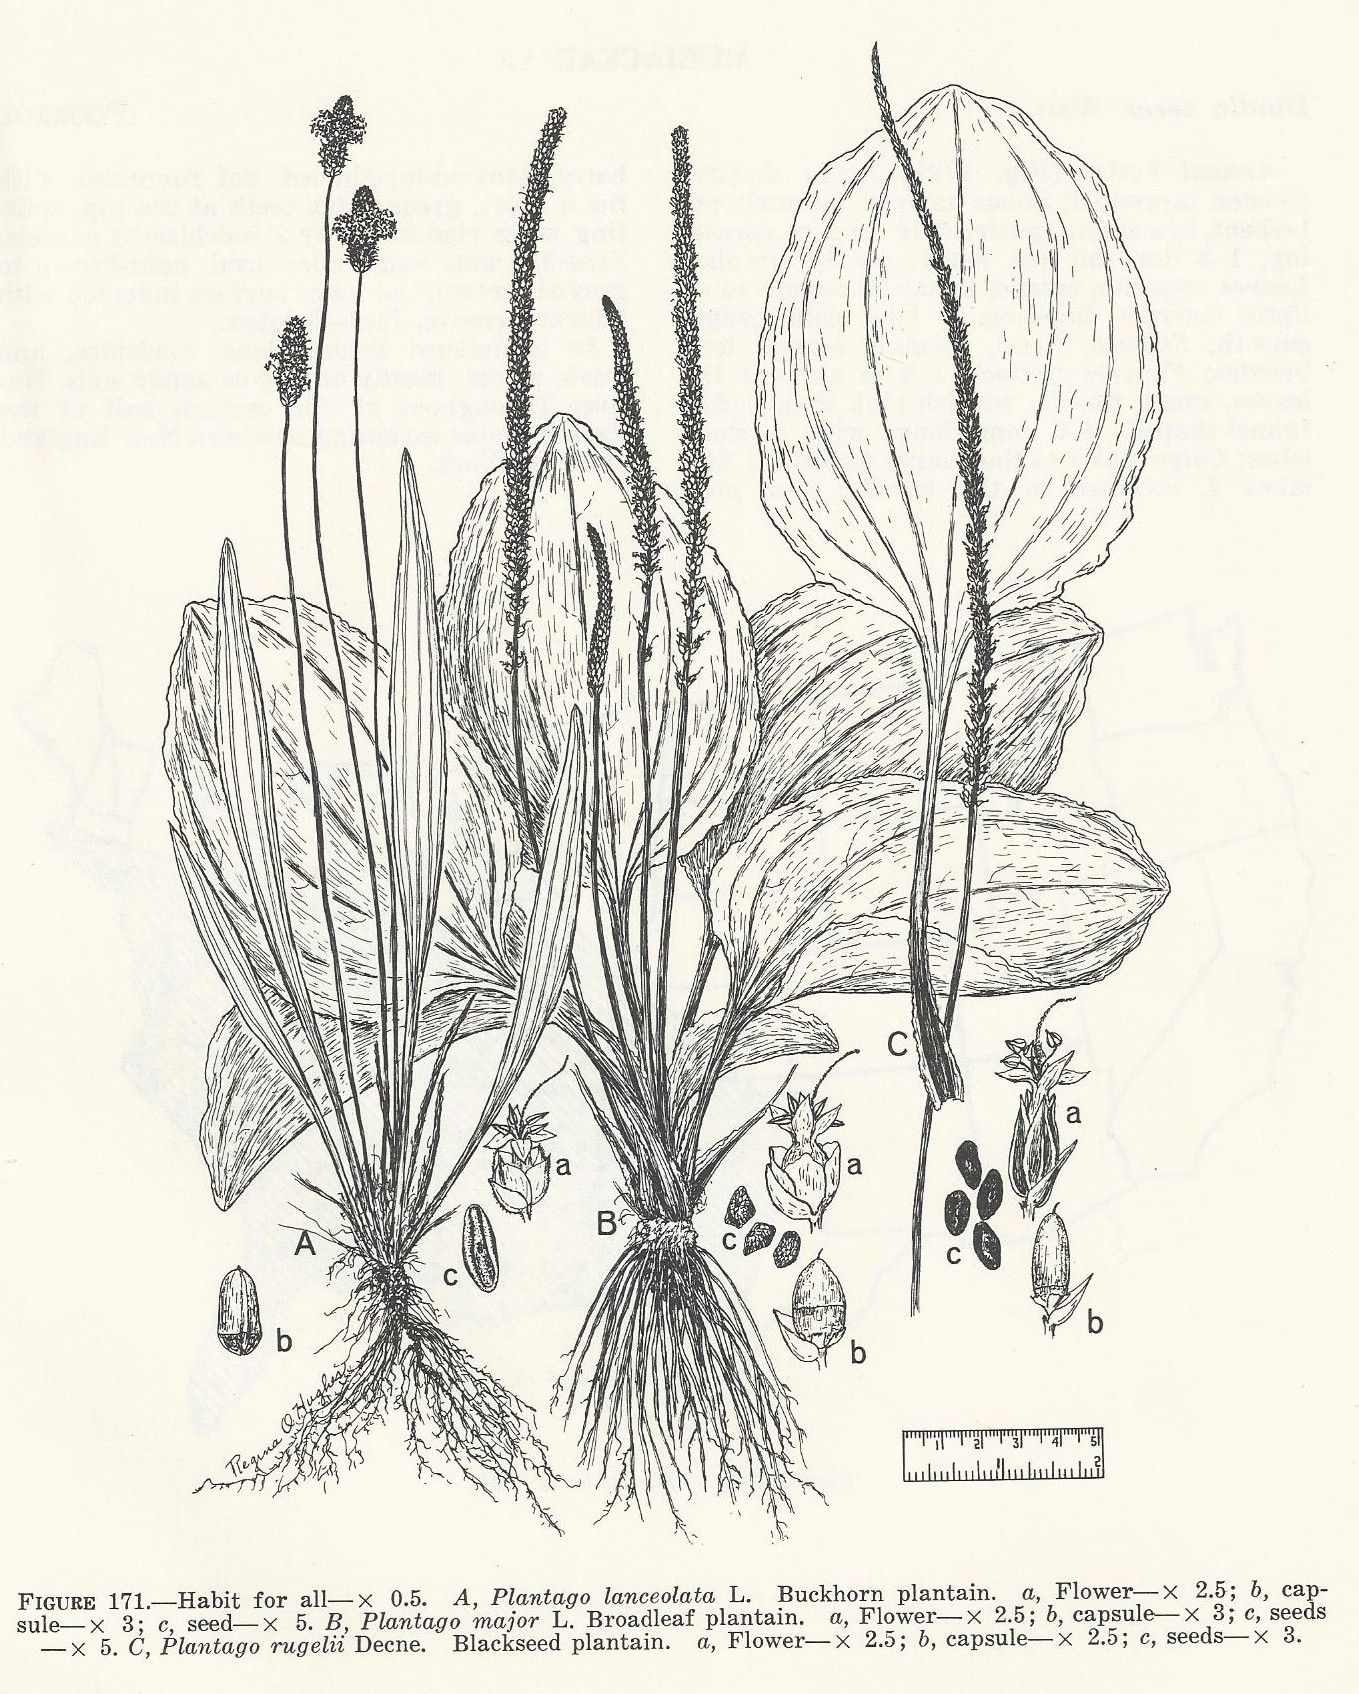buckhorn plantain: (399, 53, 808, 1209), (112, 91, 502, 1298), (764, 42, 1043, 1060)
